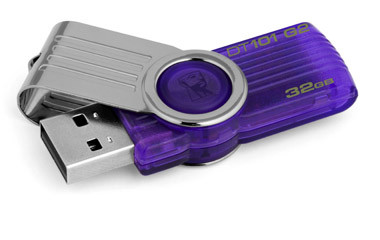Kingston: (173, 63, 227, 113)
